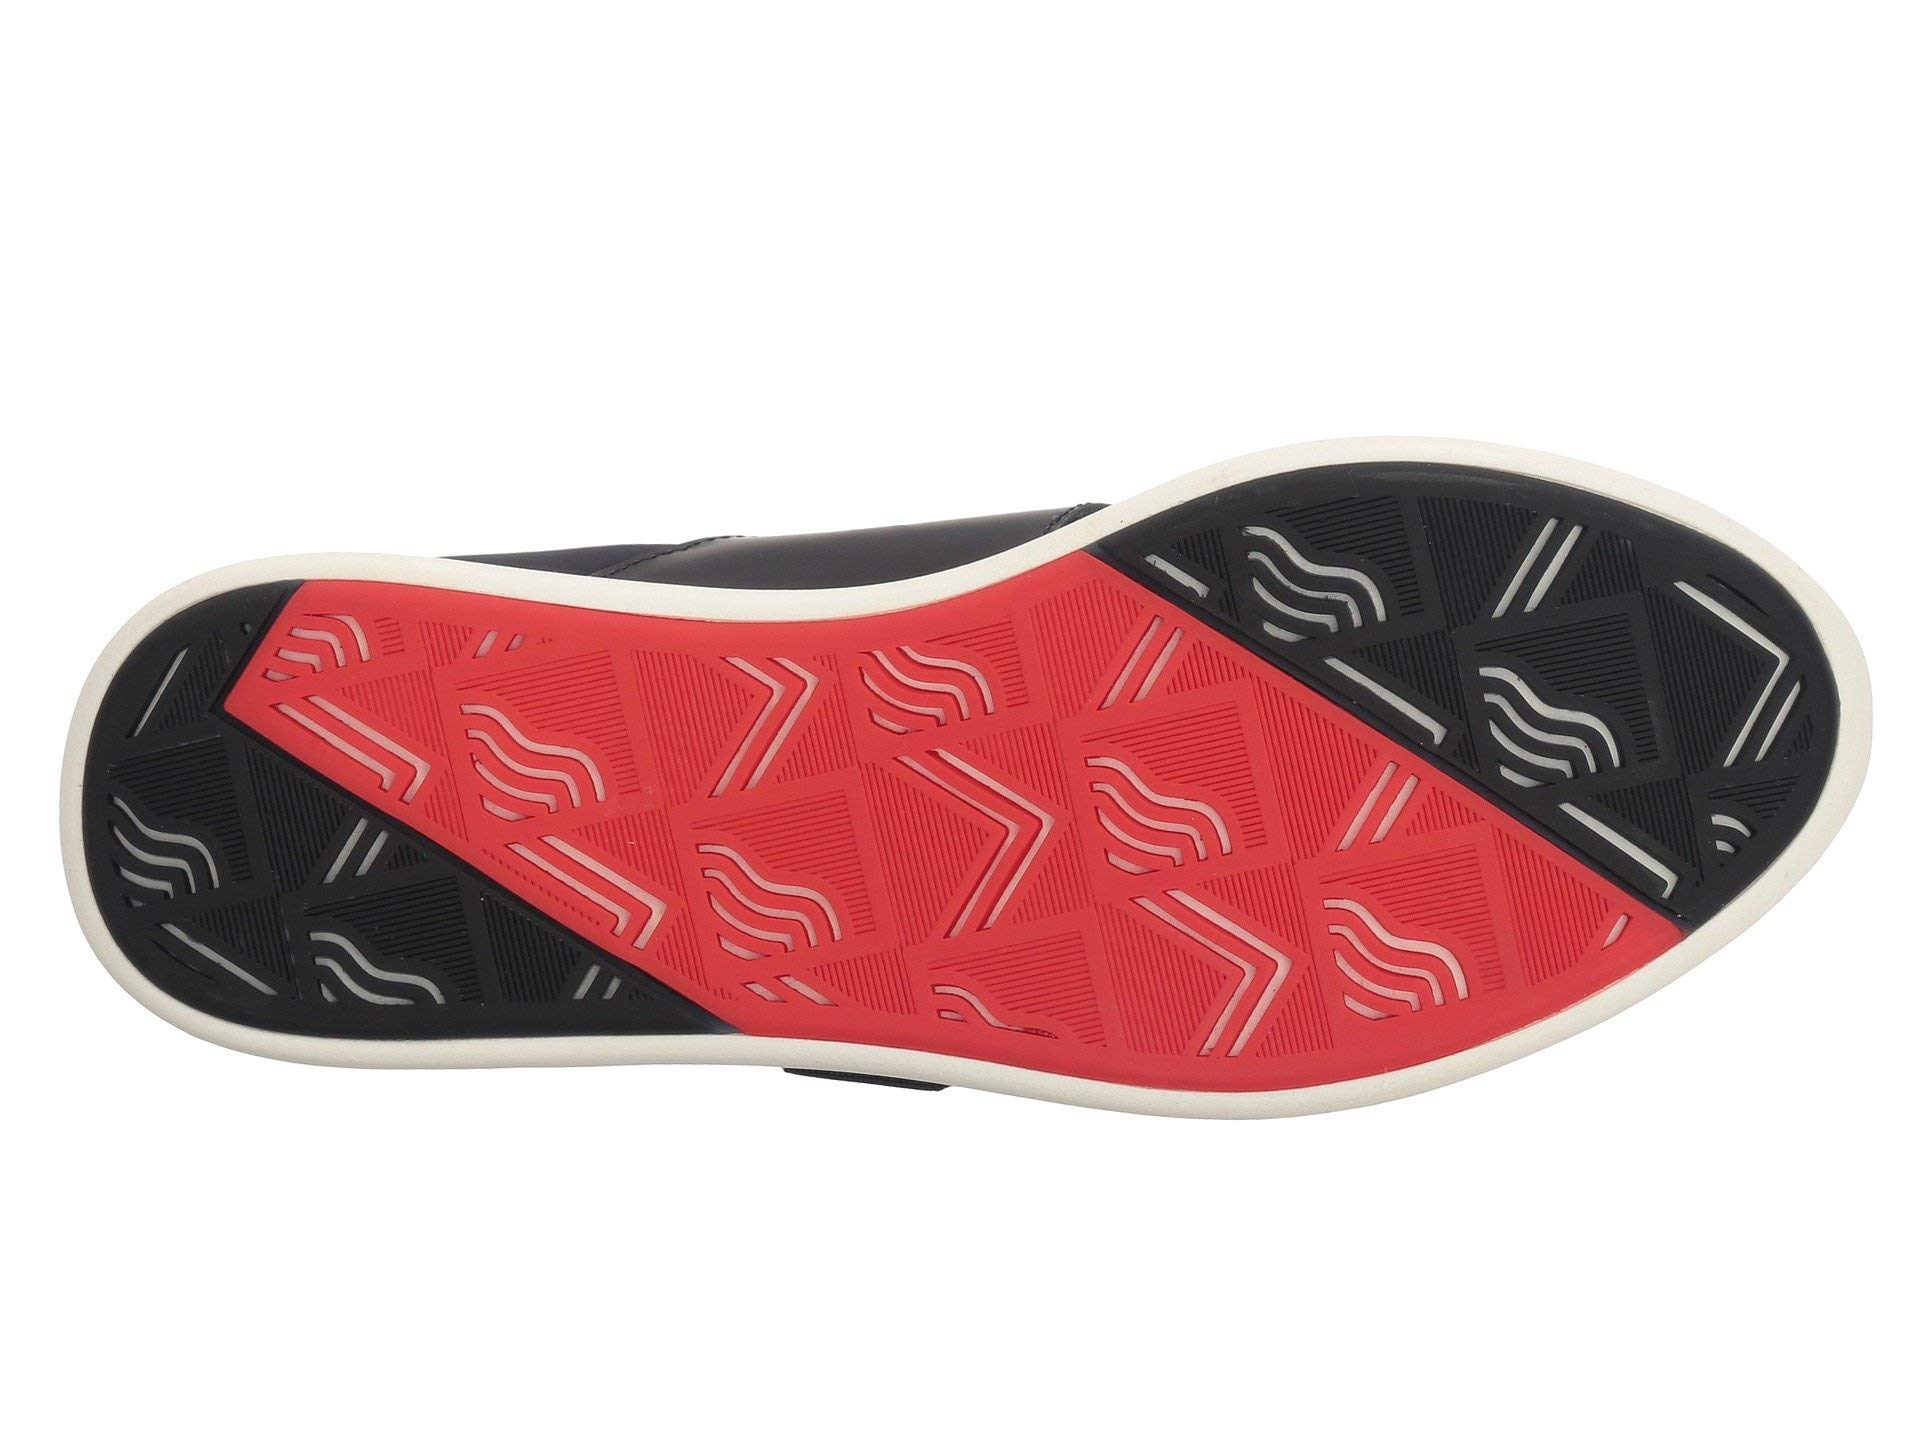chevron: (172, 628, 509, 967), (633, 747, 940, 1036), (958, 691, 1169, 932), (1454, 604, 1674, 821), (1692, 554, 1905, 773)
line: (172, 628, 509, 967), (633, 747, 940, 1036), (1228, 643, 1494, 912), (958, 691, 1169, 932), (1454, 604, 1674, 821), (1692, 554, 1905, 773)
quad: (172, 628, 509, 967), (633, 747, 940, 1036), (1454, 604, 1674, 821)
triangle: (172, 628, 509, 967), (633, 747, 940, 1036), (1228, 643, 1494, 912), (958, 691, 1169, 932)
